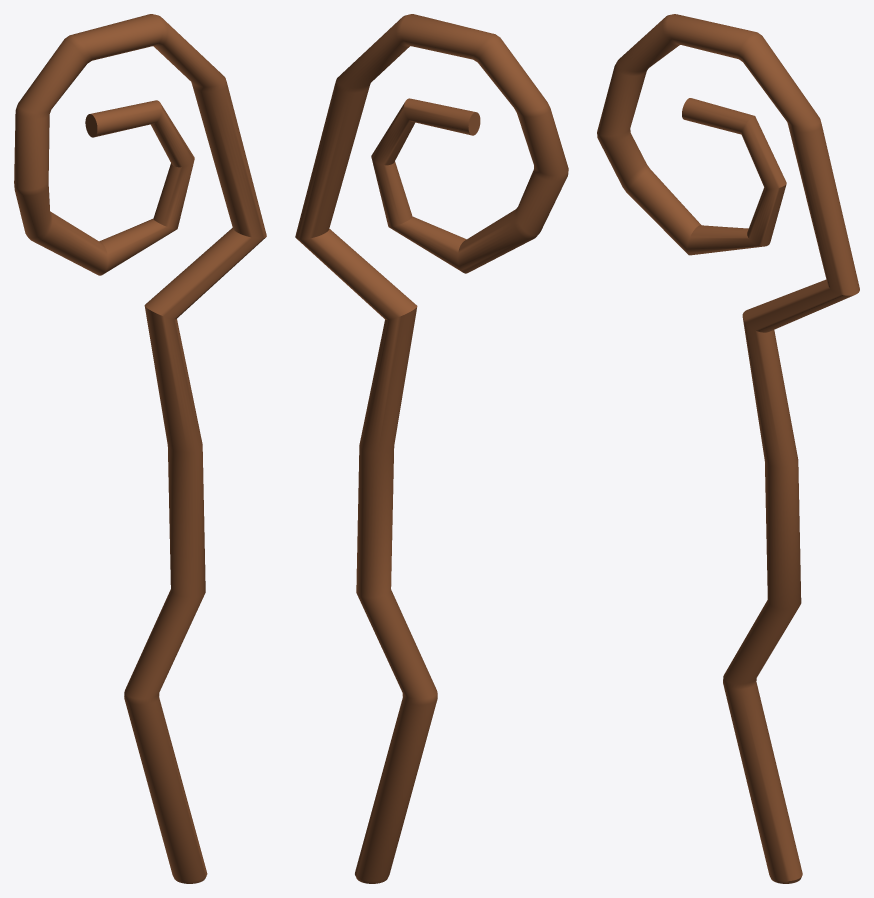
File: MagicWand1.fbx
3 views of the same model, side by side, from view 1: azimuth 30°, elevation 25°; view 2: azimuth 150°, elevation 25°; view 3: azimuth 330°, elevation 25° (orthographic). The views are drawn at different scales.
Visible parts, largest first — view 1: MagicWand1; view 2: MagicWand1; view 3: MagicWand1.
Part boxes in pixels (box(x1,y1,x2,y2)): MagicWand1: box(14, 14, 266, 883); MagicWand1: box(295, 14, 568, 883); MagicWand1: box(597, 14, 859, 883).
Size of the model in its own units: 0.2482 by 0.7999 by 0.0474.
